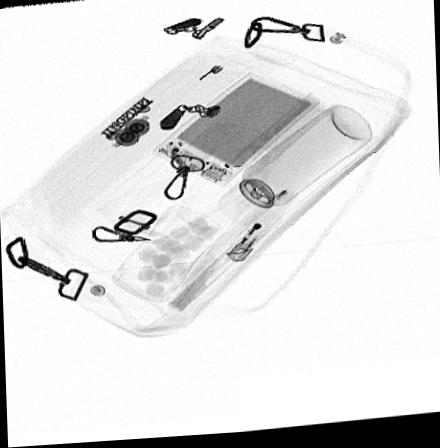Lighter: (224, 193, 299, 268)
Powerbank: (151, 74, 321, 193)
Sprayer: (217, 109, 373, 228)
